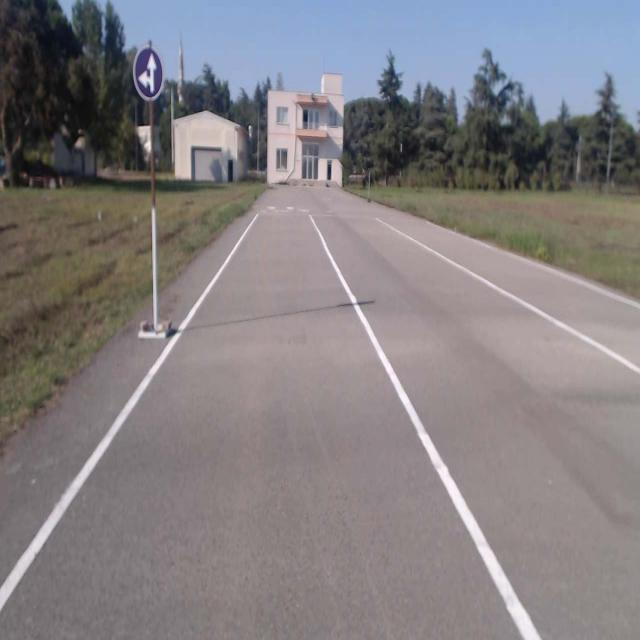ilerisol: (133, 47, 163, 98)
